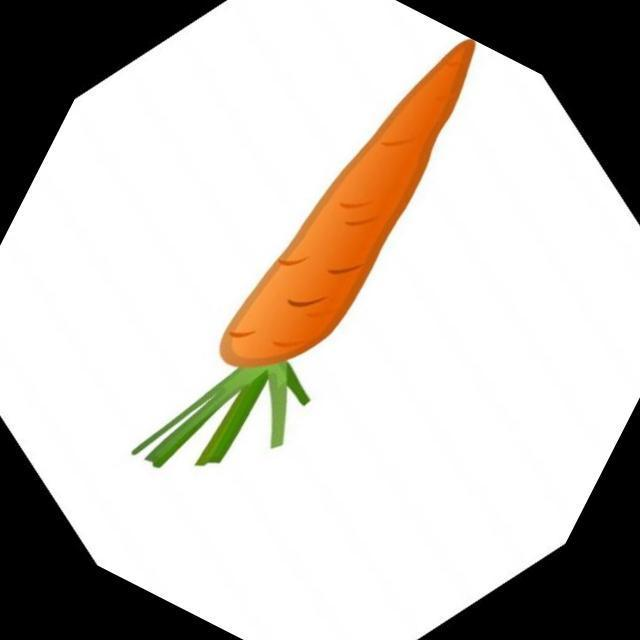Carrot: (132, 40, 475, 467)
